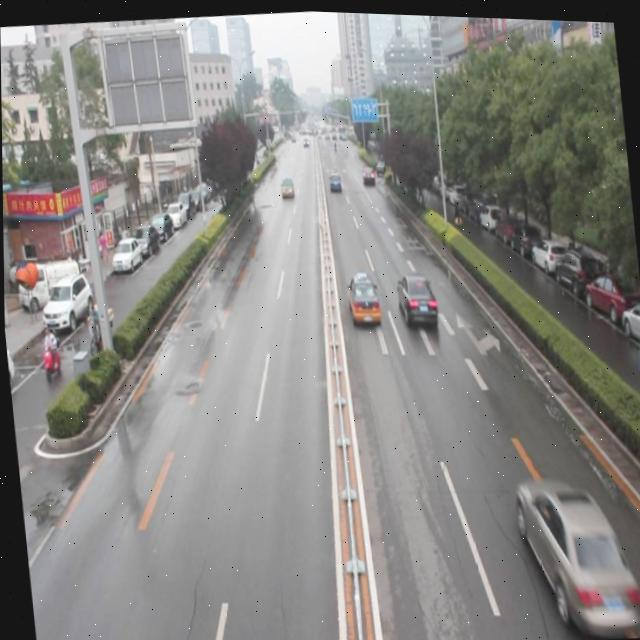car: (509, 461, 640, 640), (392, 266, 438, 326), (342, 266, 379, 325), (325, 167, 342, 190), (278, 173, 294, 196), (359, 161, 373, 181)
